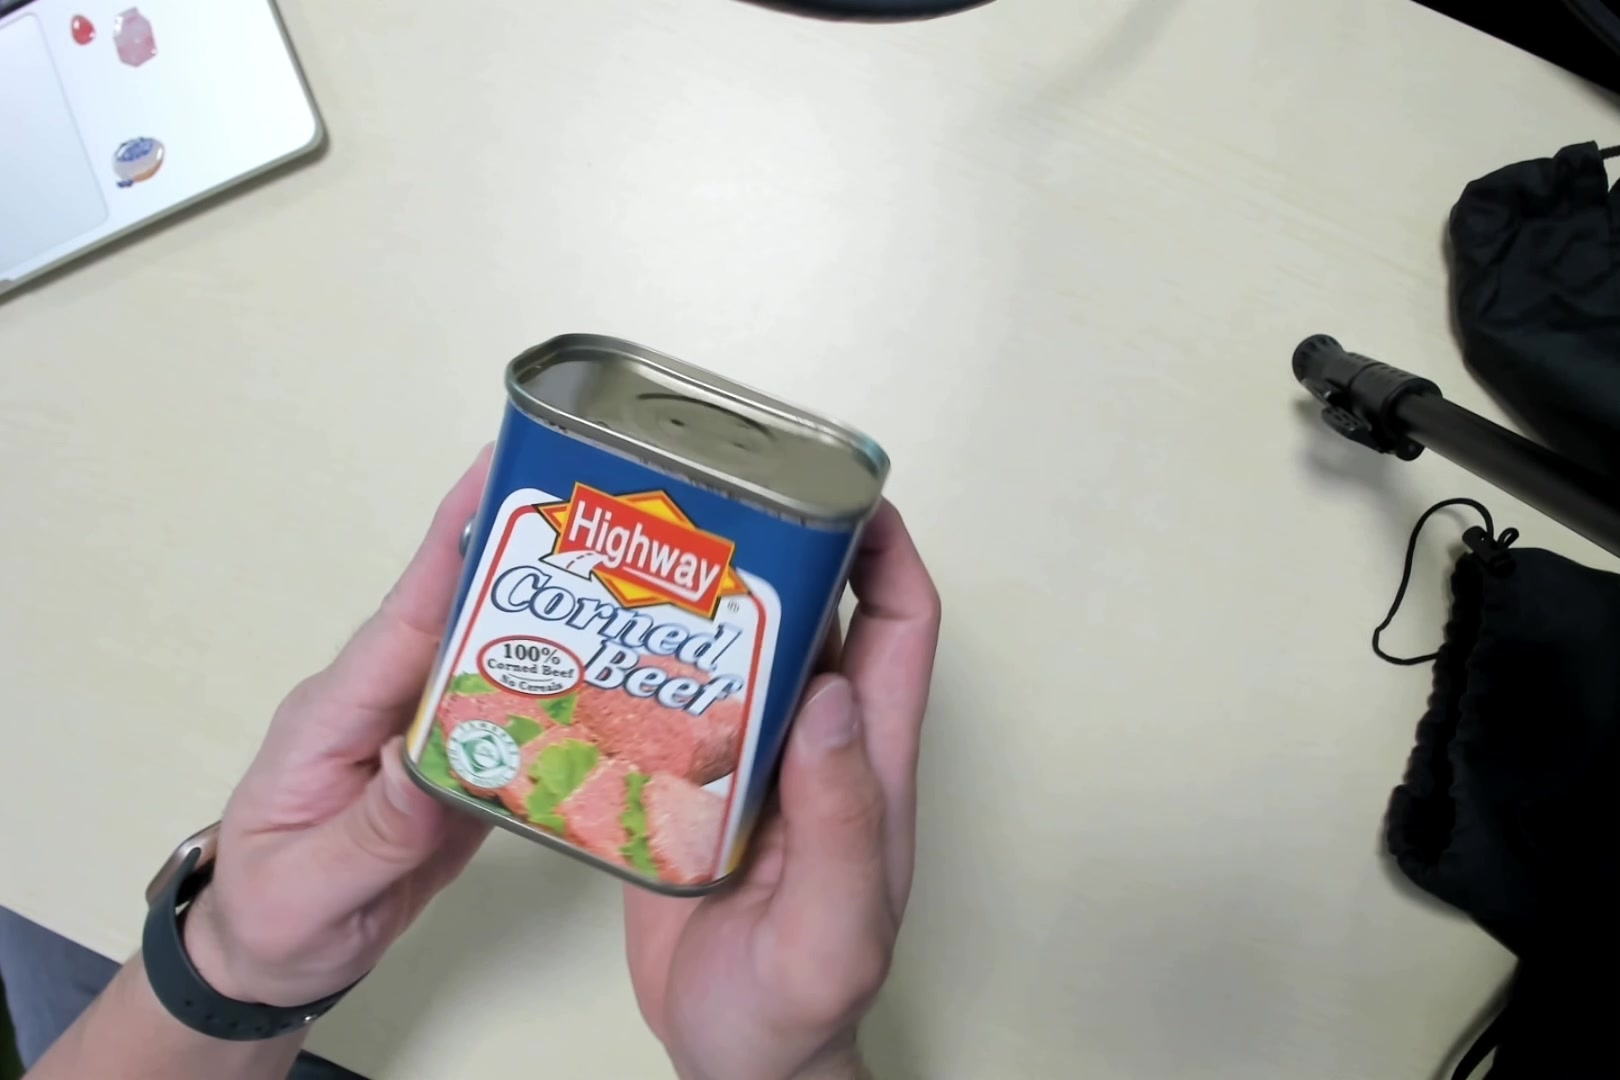CannedBeefOtherMeats_300-399g_Halal_NonHealthy: (409, 347, 845, 894)
